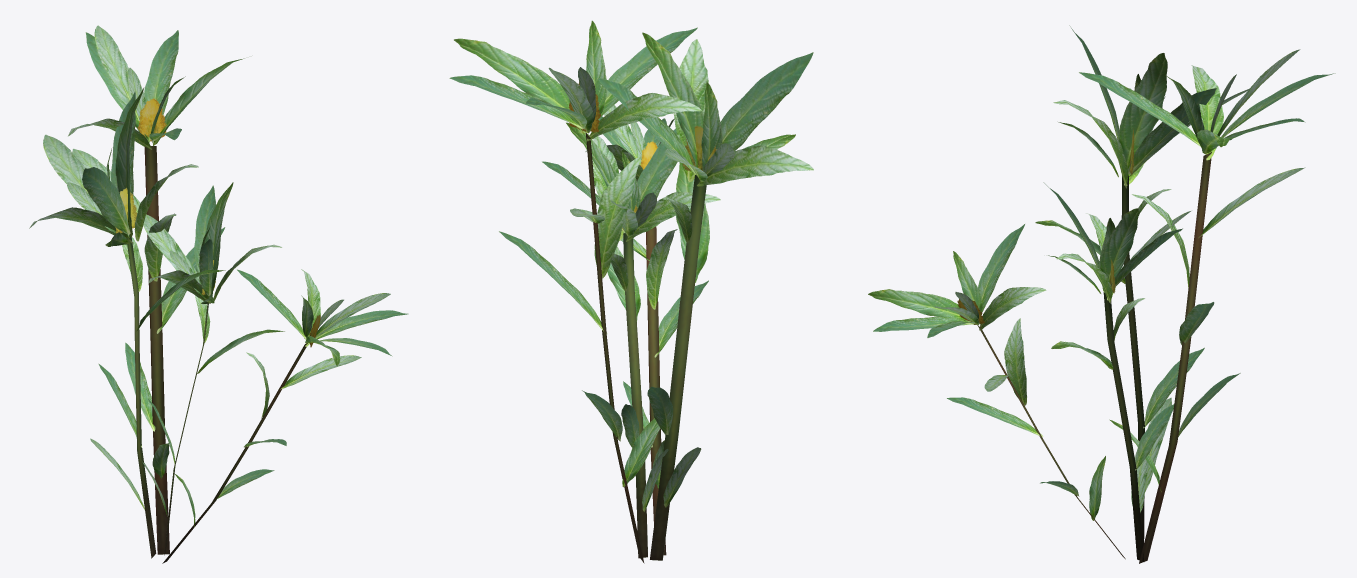
File: leafplant7_lod0.fbx
The picture shows the model from 3 angles, left to right: view 1: azimuth 30°, elevation 25°; view 2: azimuth 150°, elevation 25°; view 3: azimuth 270°, elevation 25°; orthographic projection. The views are drawn at different scales.
Visible parts, largest first — view 1: Mesh Object; view 2: Mesh Object; view 3: Mesh Object.
Part boxes in pixels (box(x1,y1,x2,y2)): Mesh Object: box(29, 25, 408, 563); Mesh Object: box(449, 20, 813, 563); Mesh Object: box(868, 25, 1335, 563).
Bounding box in the file's own units: 1.58 × 2.37 × 1.95.
